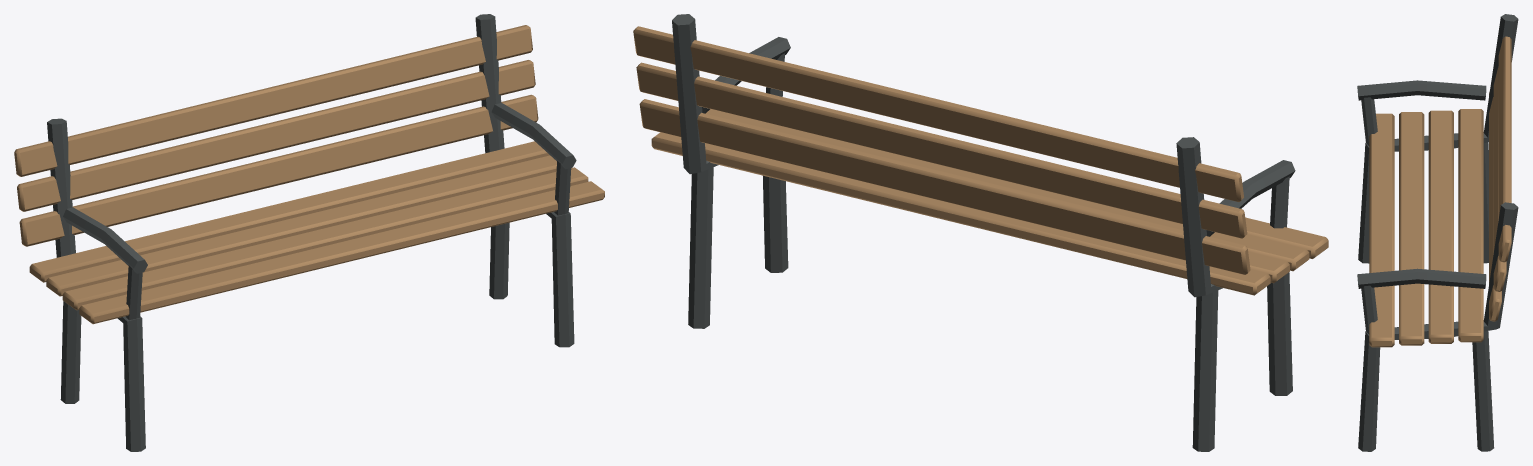
File: bench.glb
The picture shows the model from 3 angles, left to right: view 1: azimuth 30°, elevation 25°; view 2: azimuth 150°, elevation 25°; view 3: azimuth 270°, elevation 25°; orthographic projection. The views are drawn at different scales.
Visible parts, largest first — view 1: Bench; view 2: Bench; view 3: Bench.
Part boxes in pixels (left/top/right/bottom): Bench: left=14, top=14, right=604, bottom=451; Bench: left=633, top=14, right=1328, bottom=451; Bench: left=1357, top=14, right=1518, bottom=451.
Bounding box in the file's own units: 1.8 × 0.9055 × 0.5419.
